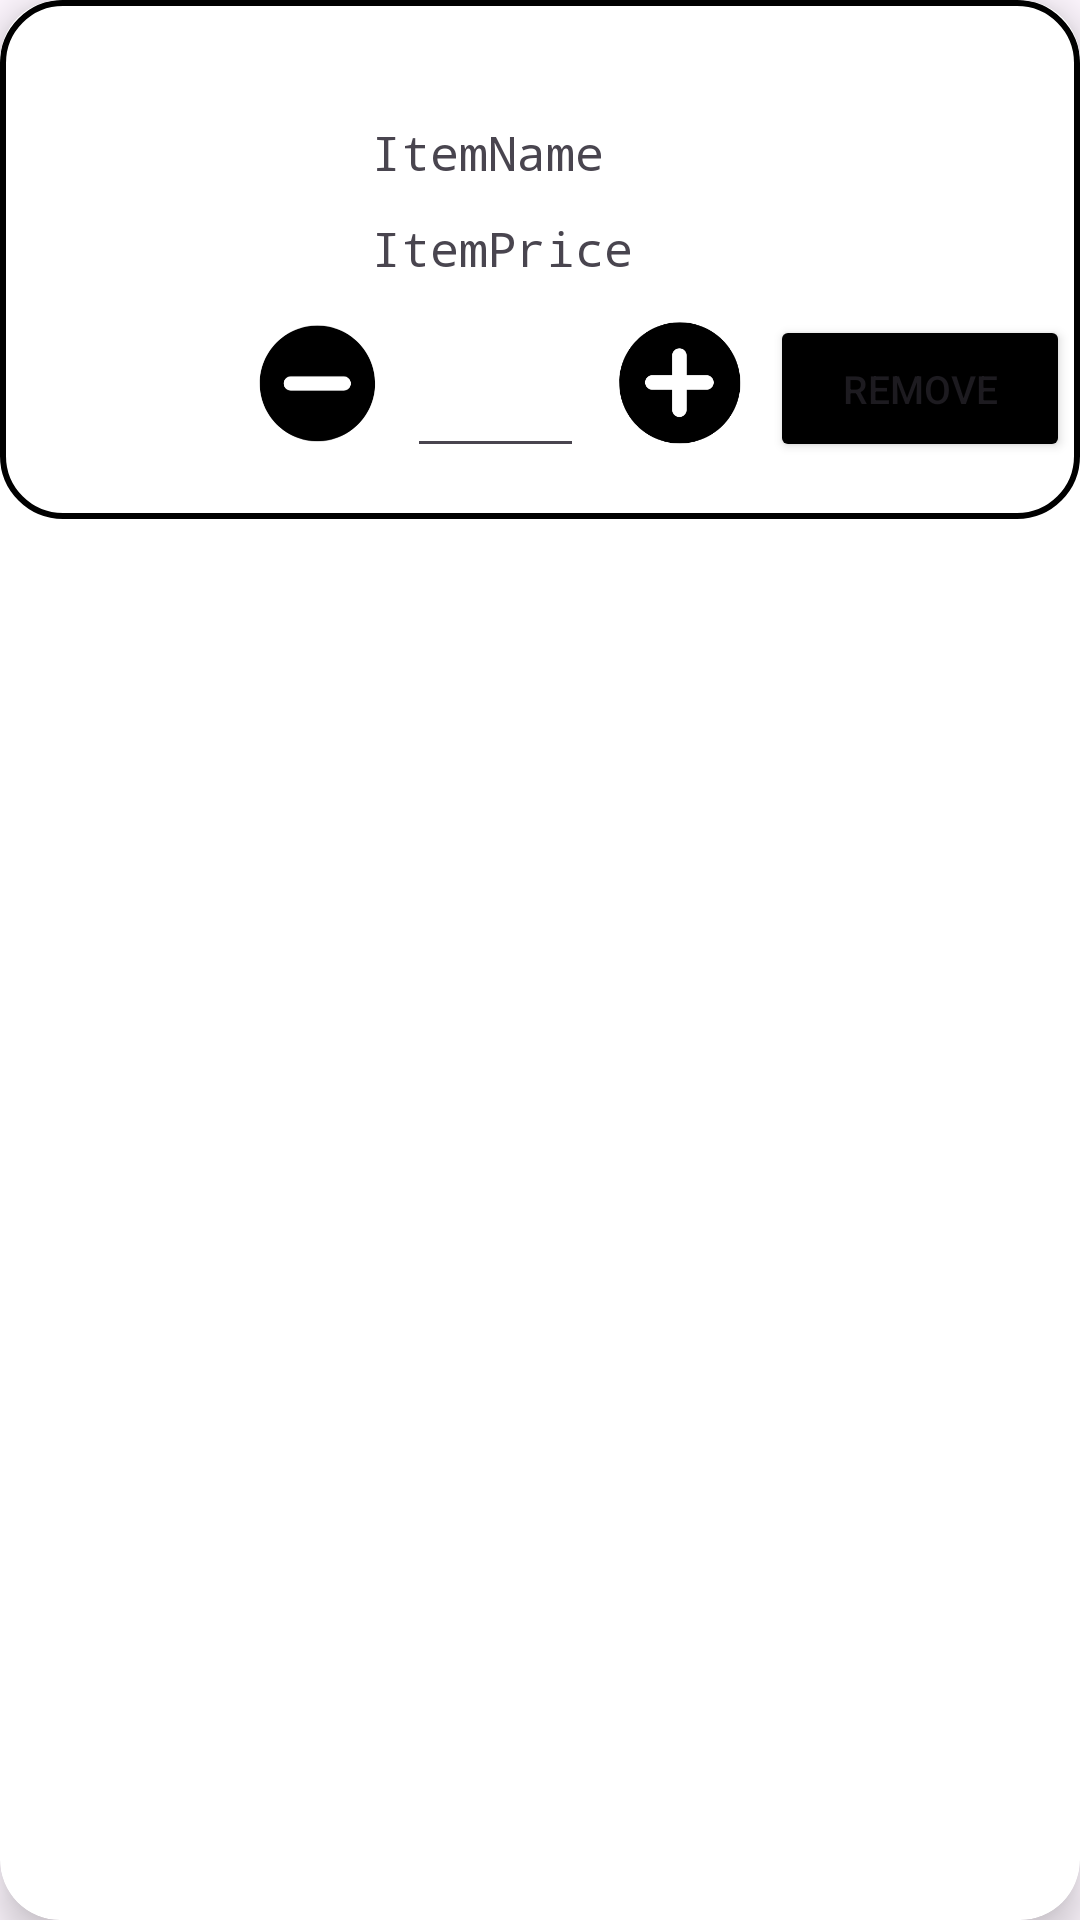

Icons on this 1080w x 1920h Android screen, each with its box as bbox=[x1, y1, x2, y2]:
addlistbutton: bbox=[619, 322, 741, 444]
minuslistbutton: bbox=[259, 325, 375, 442]
